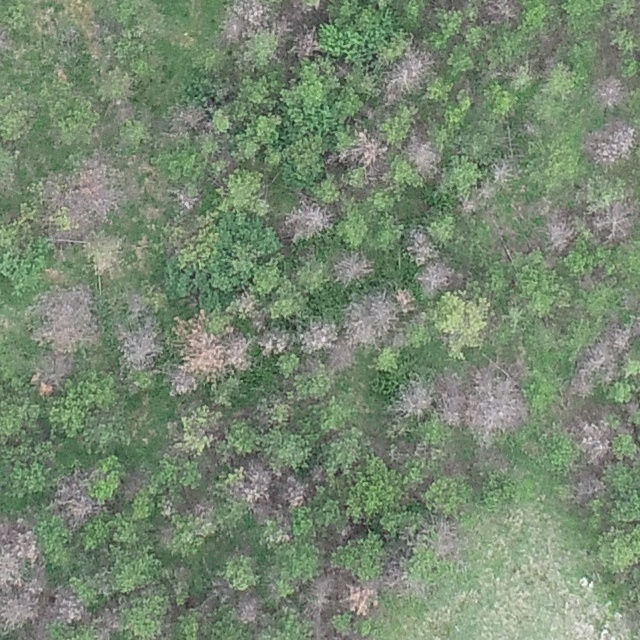unhealthy: (43, 155, 123, 232), (572, 318, 632, 396), (32, 285, 99, 349), (469, 363, 526, 435), (383, 46, 437, 101), (344, 290, 395, 345), (50, 471, 98, 529), (0, 516, 38, 588), (581, 120, 638, 163), (278, 196, 330, 240), (568, 415, 612, 464), (183, 326, 225, 377), (30, 352, 76, 398), (588, 200, 635, 244), (118, 323, 161, 368), (335, 133, 388, 169), (0, 584, 39, 632), (403, 129, 441, 178), (234, 459, 274, 504), (434, 373, 466, 427), (391, 381, 433, 419), (328, 252, 376, 284), (416, 261, 459, 295), (49, 588, 86, 626), (544, 211, 575, 256), (404, 226, 436, 266), (299, 319, 336, 353), (592, 74, 627, 109), (345, 581, 378, 618), (228, 0, 273, 27), (170, 103, 210, 133), (223, 330, 252, 370), (572, 471, 606, 505), (277, 474, 310, 509), (306, 569, 338, 605), (91, 602, 121, 638), (232, 287, 263, 321), (434, 520, 461, 559), (258, 328, 294, 355), (327, 342, 357, 373), (167, 366, 197, 397), (234, 594, 262, 626), (480, 0, 519, 22), (487, 156, 517, 183), (122, 288, 149, 316), (292, 30, 319, 58), (222, 12, 245, 43), (391, 286, 417, 313), (174, 188, 202, 211), (381, 566, 405, 590), (271, 16, 292, 39), (0, 25, 14, 56), (461, 198, 476, 214)
